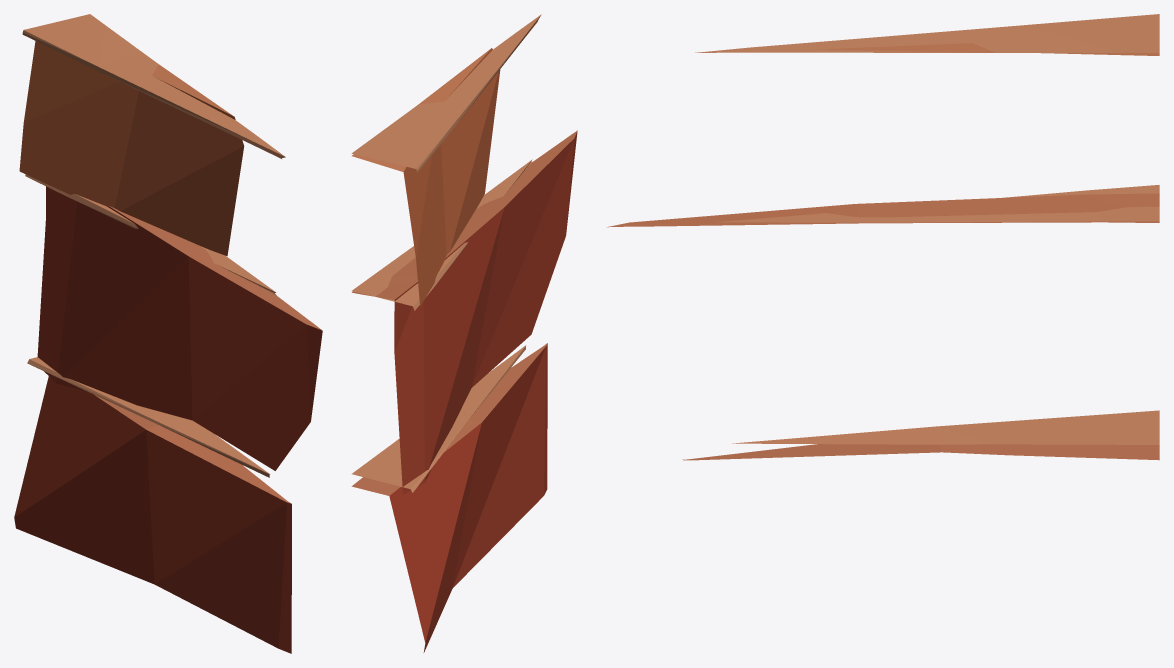
3 views of the same model, side by side, from view 1: azimuth 30°, elevation 25°; view 2: azimuth 150°, elevation 25°; view 3: azimuth 270°, elevation 25° (orthographic). The views are drawn at different scales.
Visible parts, largest first — view 1: scene.5.2; view 2: scene.5.2; view 3: scene.5.2.
Boxes of the visible parts, x1,y1,x2,y2 form: scene.5.2: (14,14,322,653); scene.5.2: (351,14,577,652); scene.5.2: (607,14,1159,460).
Bounding box in the file's own units: 3.65 × 23.34 × 19.36.
